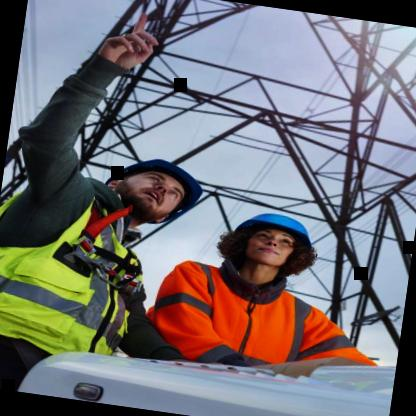helmet: (216, 196, 328, 288), (100, 145, 205, 228)
